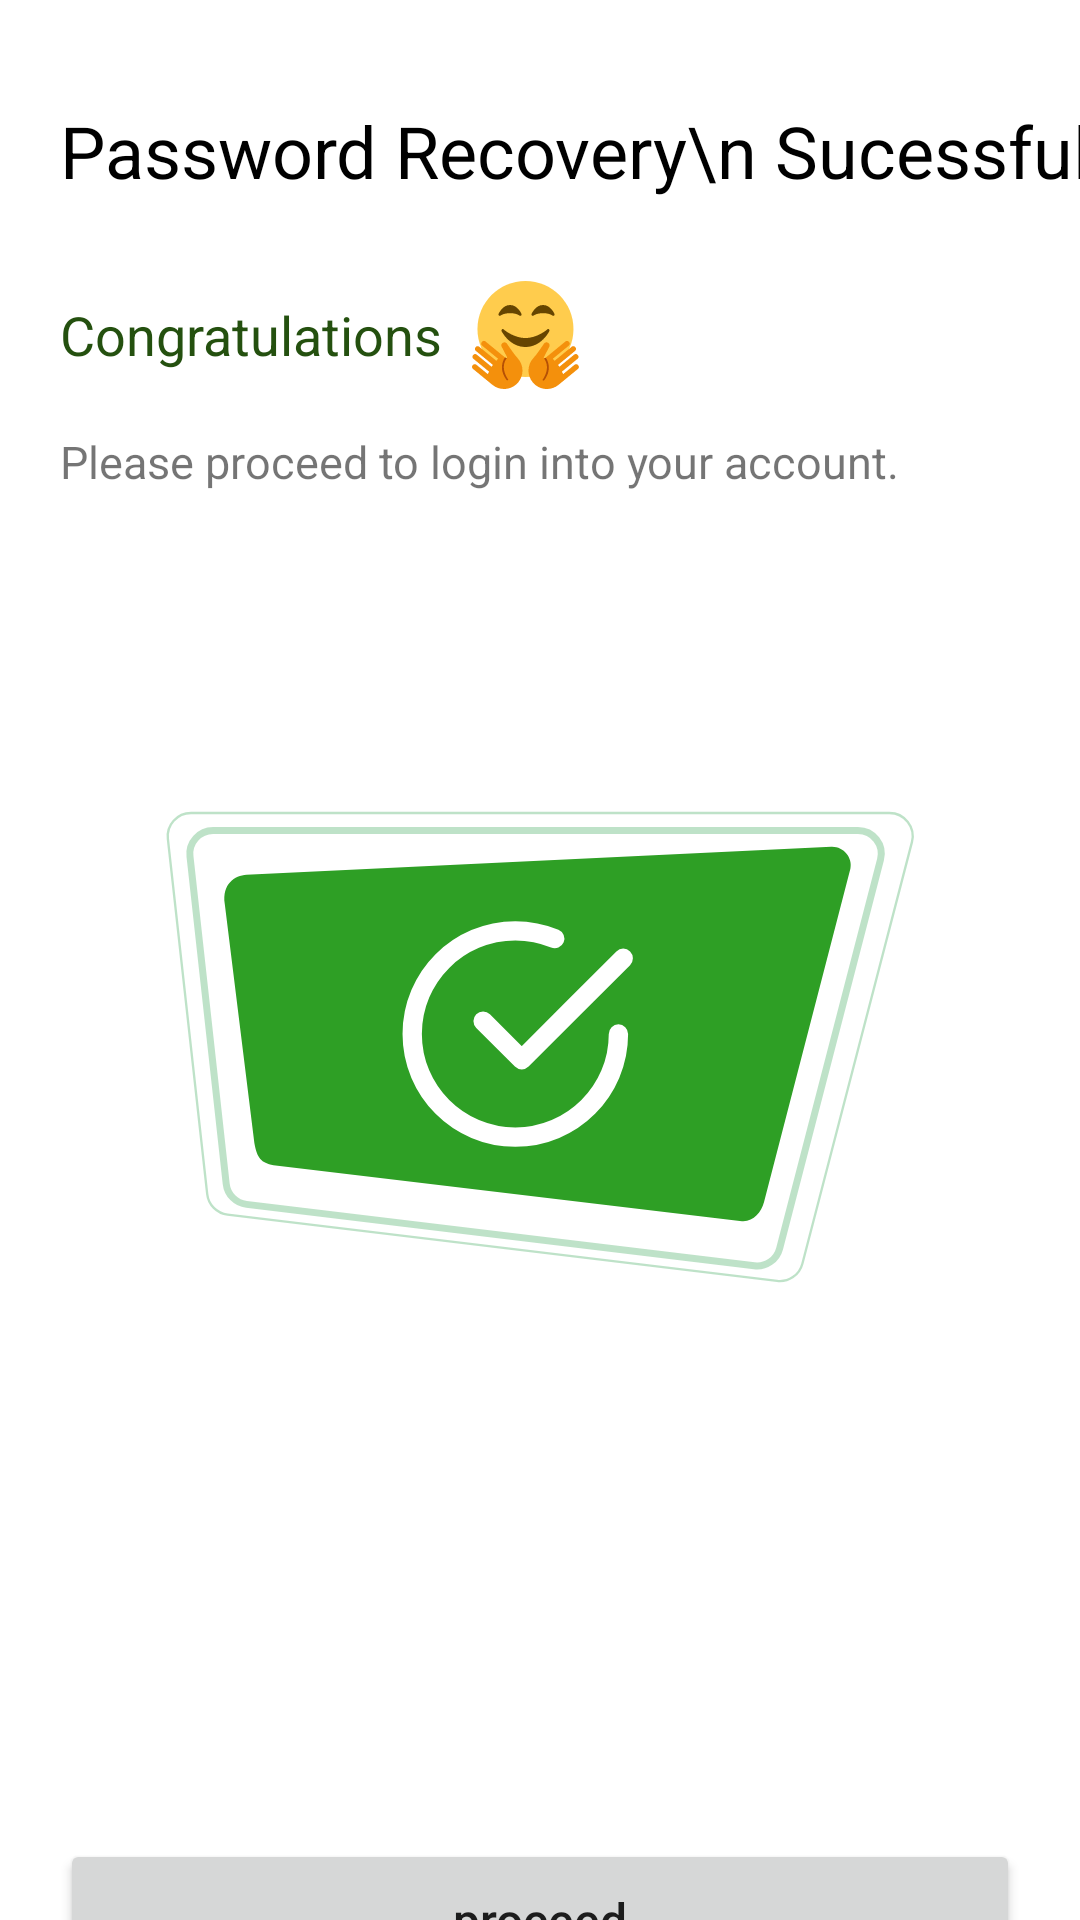

Icon bounding boxes for this 1080*1920 phone screenshot, format (x1, y1, x2, y2):
emoji: (472, 281, 579, 389)
